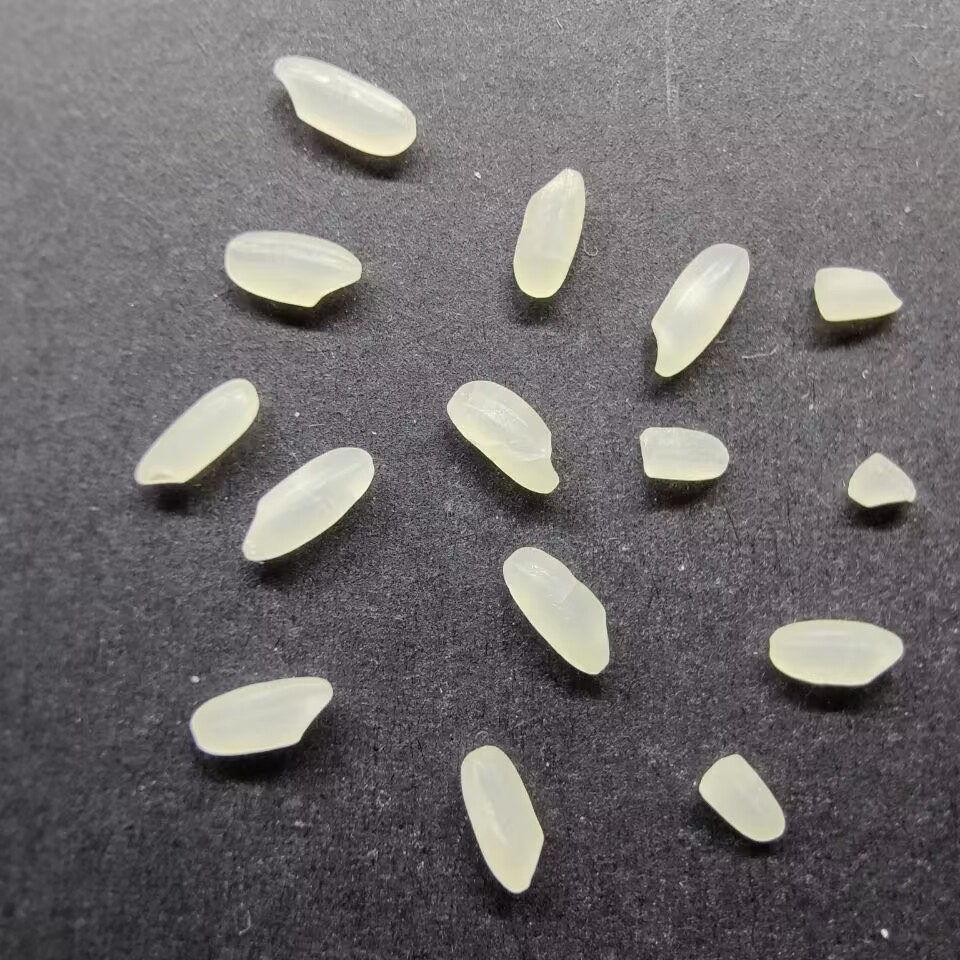broken: (697, 752, 787, 842), (636, 424, 732, 485), (812, 264, 906, 323), (844, 450, 918, 511)
rice: (240, 443, 377, 565), (269, 53, 419, 160), (501, 544, 613, 678), (131, 377, 261, 489), (649, 241, 752, 378), (444, 380, 560, 495), (459, 743, 545, 895), (189, 674, 335, 759), (221, 229, 363, 309), (511, 164, 586, 300), (766, 617, 906, 687)
